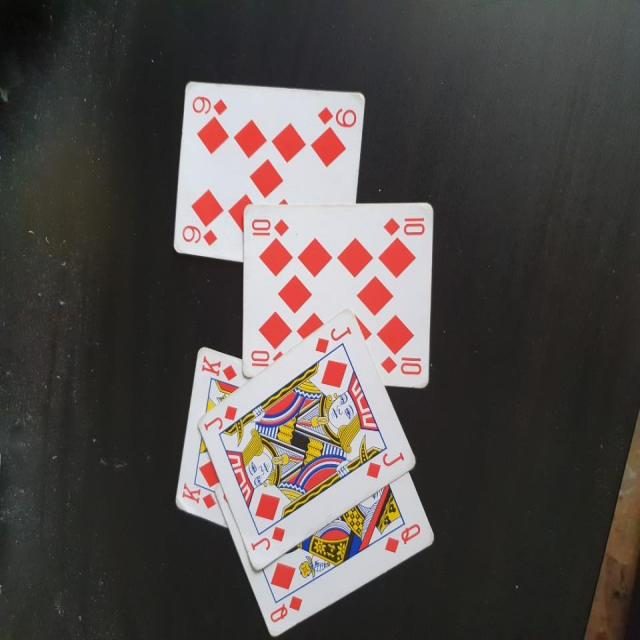10 Diamonds: (242, 202, 436, 389)
9 Diamonds: (171, 81, 366, 260)
J Diamonds: (195, 306, 418, 572)
K Diamonds: (175, 346, 252, 528)
Q Diamonds: (214, 468, 435, 638)
